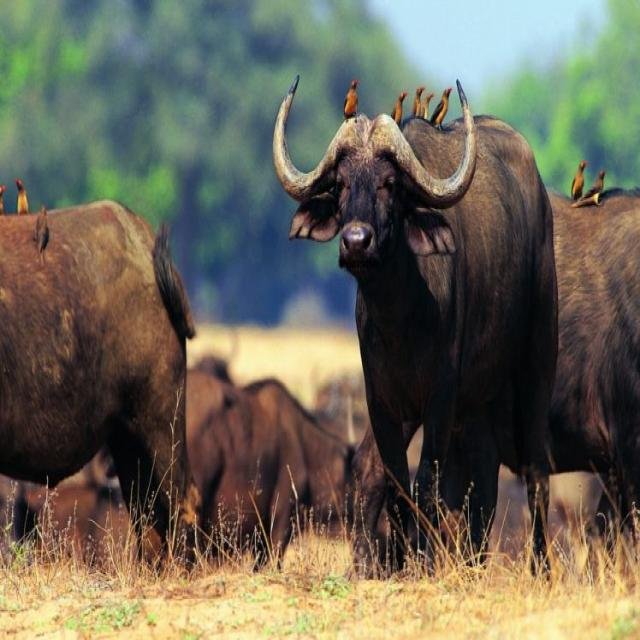buffalo: (274, 75, 564, 602), (0, 197, 188, 594), (185, 367, 383, 588)
